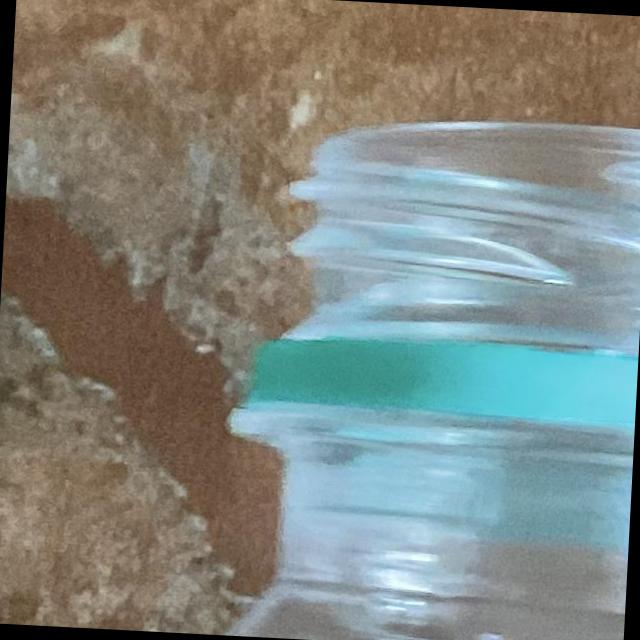open-cap: (235, 88, 640, 478)
